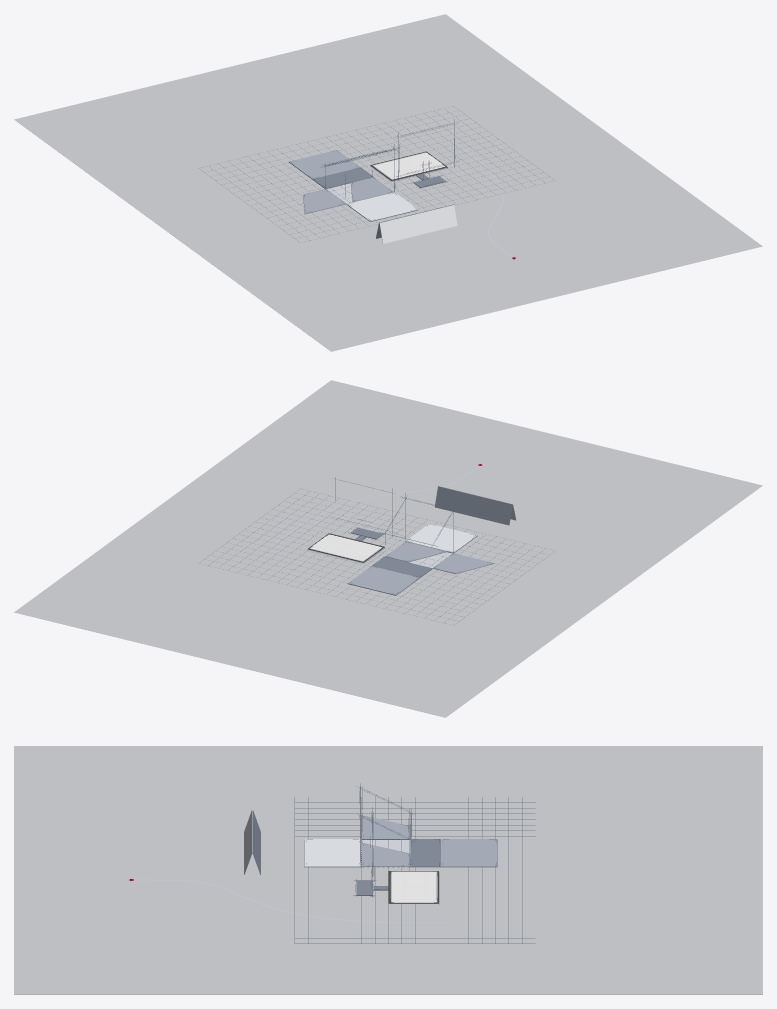
The model's file is modernisierung-breit.glb.
3 views of the same model, one above another, from view 1: azimuth 30°, elevation 25°; view 2: azimuth 150°, elevation 25°; view 3: azimuth 270°, elevation 25° (orthographic). The views are drawn at different scales.
Visible parts, largest first — view 1: Bogen, Bau_Welt, druck:titel, Flach_Schirm, CRT_Deckel, druck:lesestelle, CRT_Links, CRT_Rechts, CRT_Rueck; view 2: Bogen, Bau_Welt, Titel_Stuetze, Flach_Schirm, CRT_Deckel, druck:lesestelle, CRT_Rechts, CRT_Links, CRT_Rueck; view 3: Bogen, Bau_Welt, Flach_Schirm, CRT_Deckel, druck:lesestelle, CRT_Rechts, CRT_Links, CRT_Rueck, Schiene.
Part boxes in pixels (bbox=[...]): Bogen: bbox=[14, 14, 762, 351]; Bau_Welt: bbox=[199, 106, 553, 242]; druck:titel: bbox=[379, 205, 457, 243]; Flach_Schirm: bbox=[370, 151, 447, 181]; CRT_Deckel: bbox=[289, 150, 360, 179]; druck:lesestelle: bbox=[347, 192, 418, 221]; CRT_Links: bbox=[303, 189, 345, 214]; CRT_Rechts: bbox=[351, 177, 393, 202]; CRT_Rueck: bbox=[312, 167, 373, 188]; Bogen: bbox=[14, 380, 762, 717]; Bau_Welt: bbox=[202, 477, 552, 625]; Titel_Stuetze: bbox=[434, 486, 512, 525]; Flach_Schirm: bbox=[307, 533, 384, 562]; CRT_Deckel: bbox=[347, 566, 419, 595]; druck:lesestelle: bbox=[406, 523, 476, 552]; CRT_Rechts: bbox=[385, 541, 446, 562]; CRT_Links: bbox=[433, 553, 494, 573]; CRT_Rueck: bbox=[372, 556, 432, 577]; Bogen: bbox=[14, 746, 762, 994]; Bau_Welt: bbox=[294, 783, 535, 943]; Flach_Schirm: bbox=[388, 871, 438, 903]; CRT_Deckel: bbox=[441, 839, 497, 867]; druck:lesestelle: bbox=[304, 839, 360, 866]; CRT_Rechts: bbox=[361, 842, 409, 866]; CRT_Links: bbox=[362, 815, 409, 839]; CRT_Rueck: bbox=[410, 839, 440, 867]; Schiene: bbox=[134, 879, 452, 922].
Size of what is drawn, in the model's own units: 22 by 2.95 by 28.
Materials: 16 (5 with a texture image).
